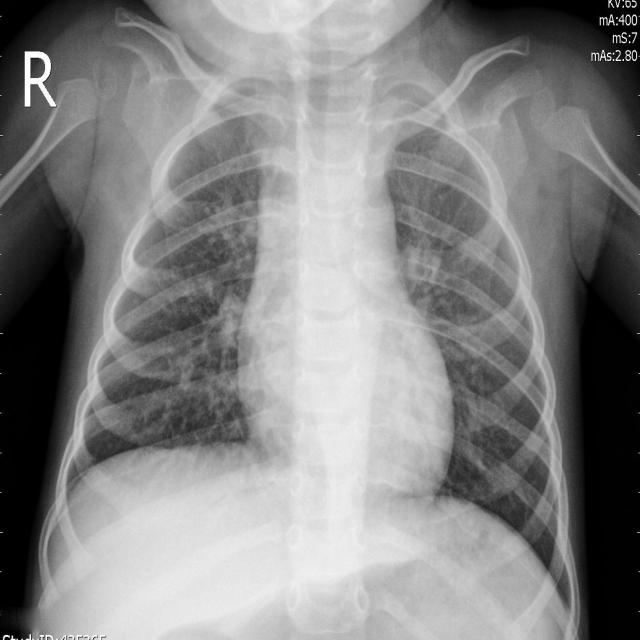low-pneumonia: (156, 205, 259, 417), (399, 208, 483, 334)
